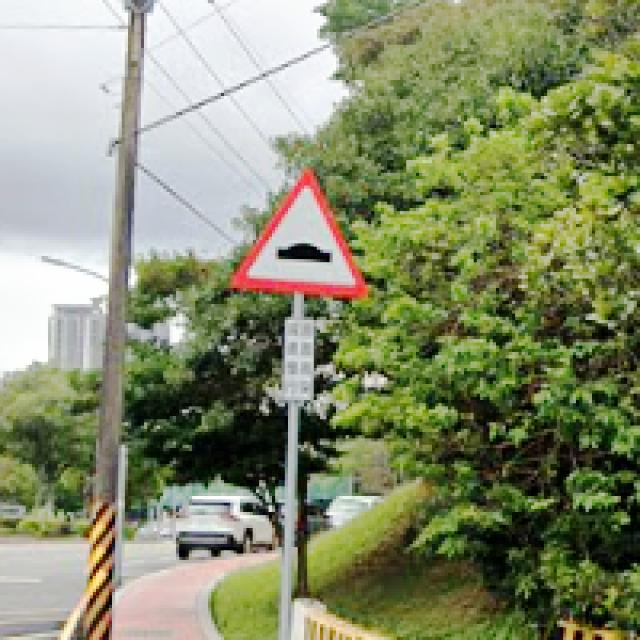hump: (232, 171, 367, 294)
